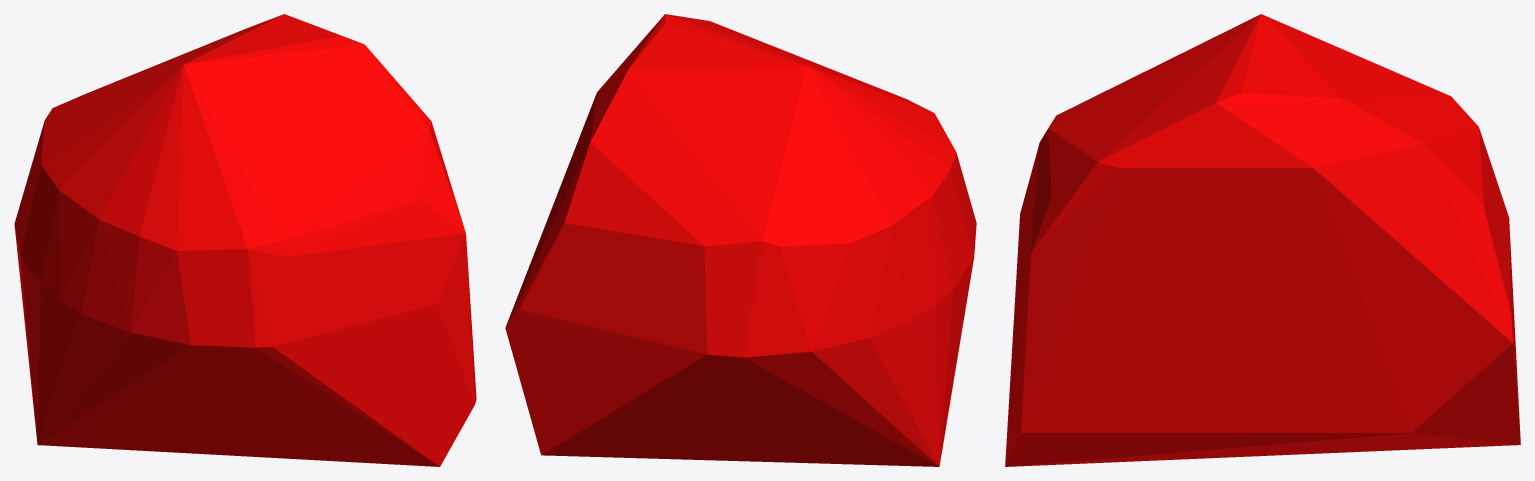
File: tip_006_1_convex_hull_09.obj
3 renders of one model, left to right at view 1: azimuth 30°, elevation 25°; view 2: azimuth 150°, elevation 25°; view 3: azimuth 270°, elevation 25°, orthographic. The views are drawn at different scales.
Visible parts, largest first — view 1: tip_006_1_convex_hull_09; view 2: tip_006_1_convex_hull_09; view 3: tip_006_1_convex_hull_09.
Part boxes in pixels (left/top/right/bottom): tip_006_1_convex_hull_09: left=14, top=14, right=476, bottom=466; tip_006_1_convex_hull_09: left=505, top=14, right=976, bottom=466; tip_006_1_convex_hull_09: left=1005, top=14, right=1520, bottom=466.
Size of the model in its own units: 0.00123 by 0.0013 by 0.00158.
